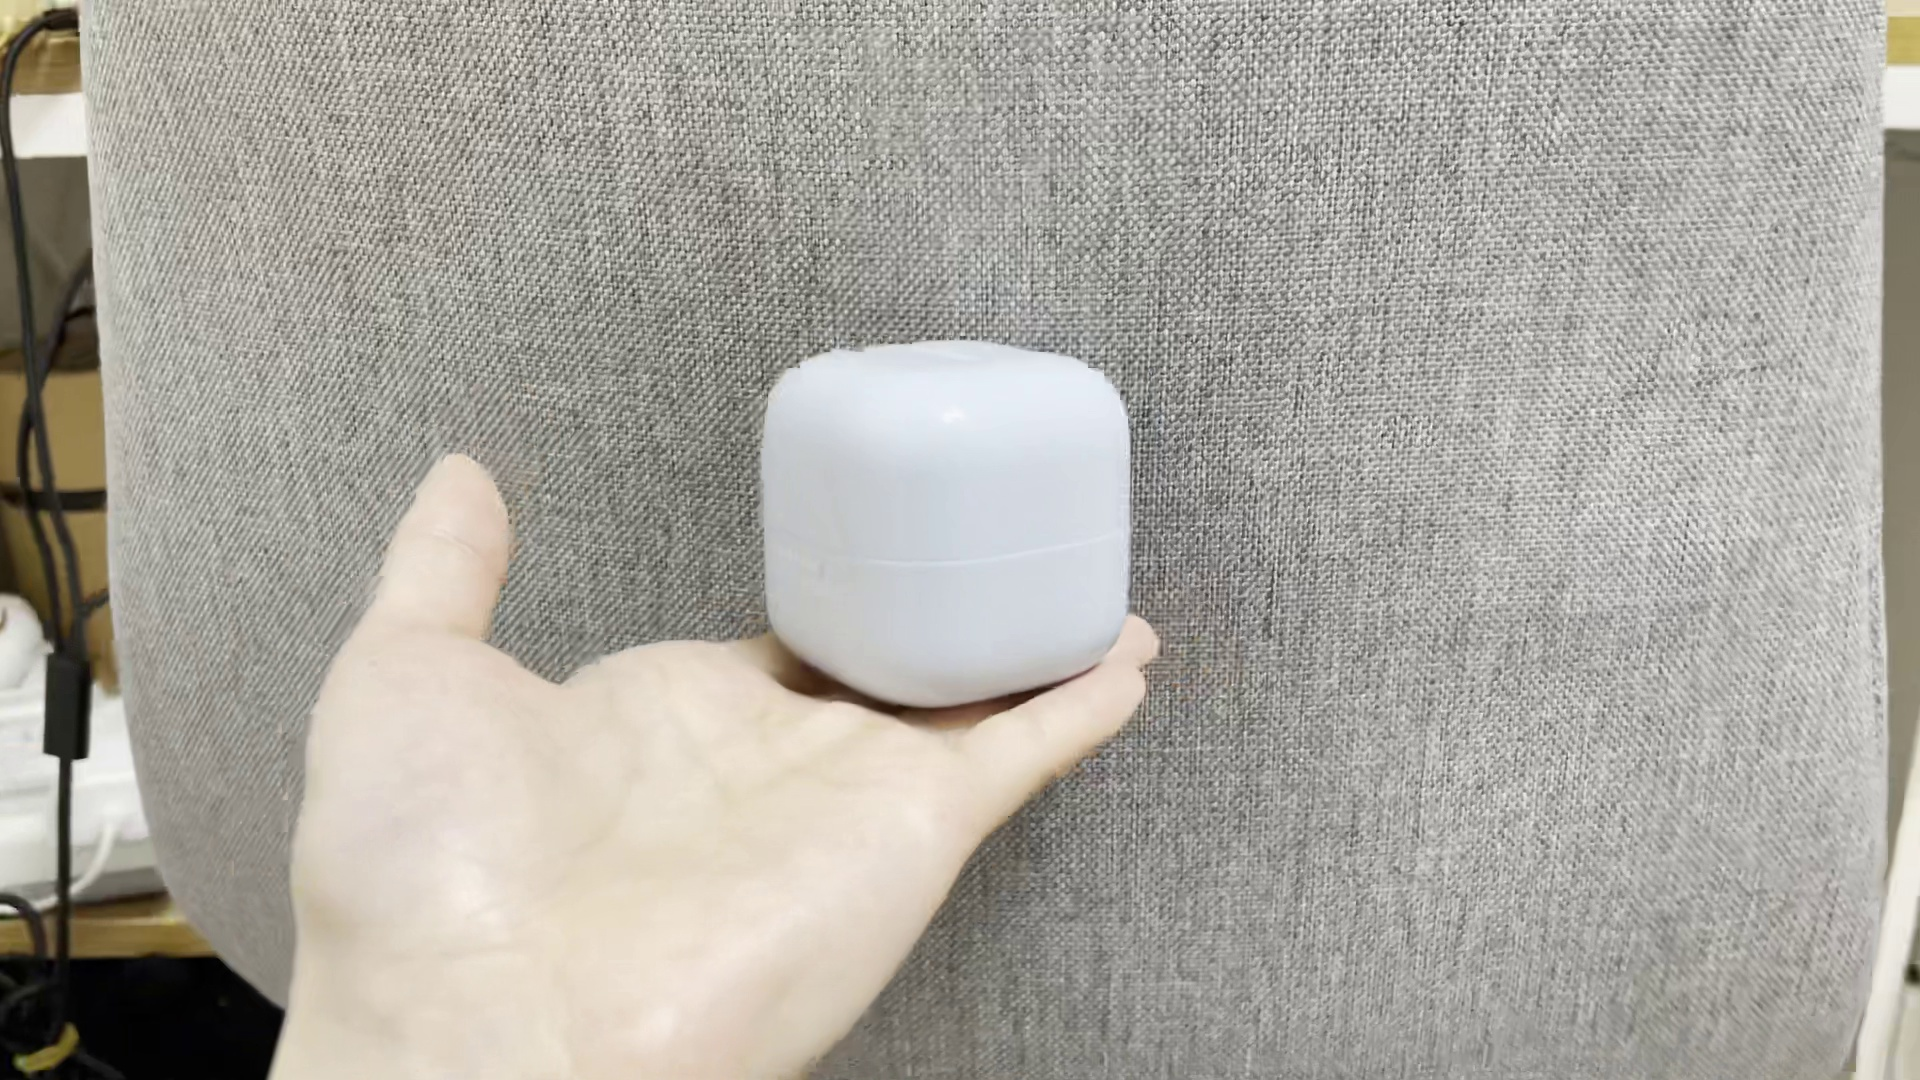cream: (764, 338, 1134, 702)
